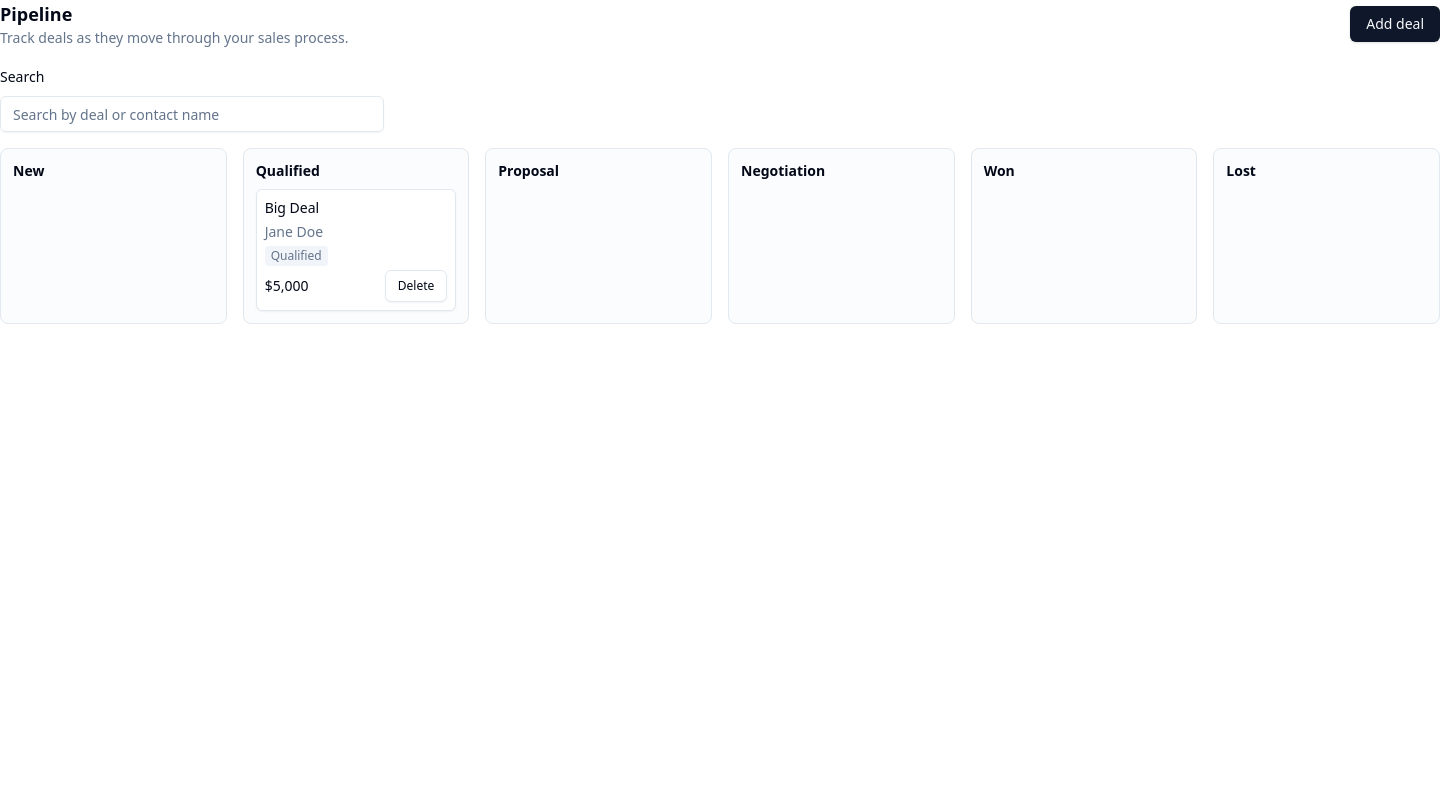
Test: PipelinePage › opens a deal's read-only detail view showing its fields
Step 1. Click the button "Big Deal" → (292, 208), box [265,198,319,218]
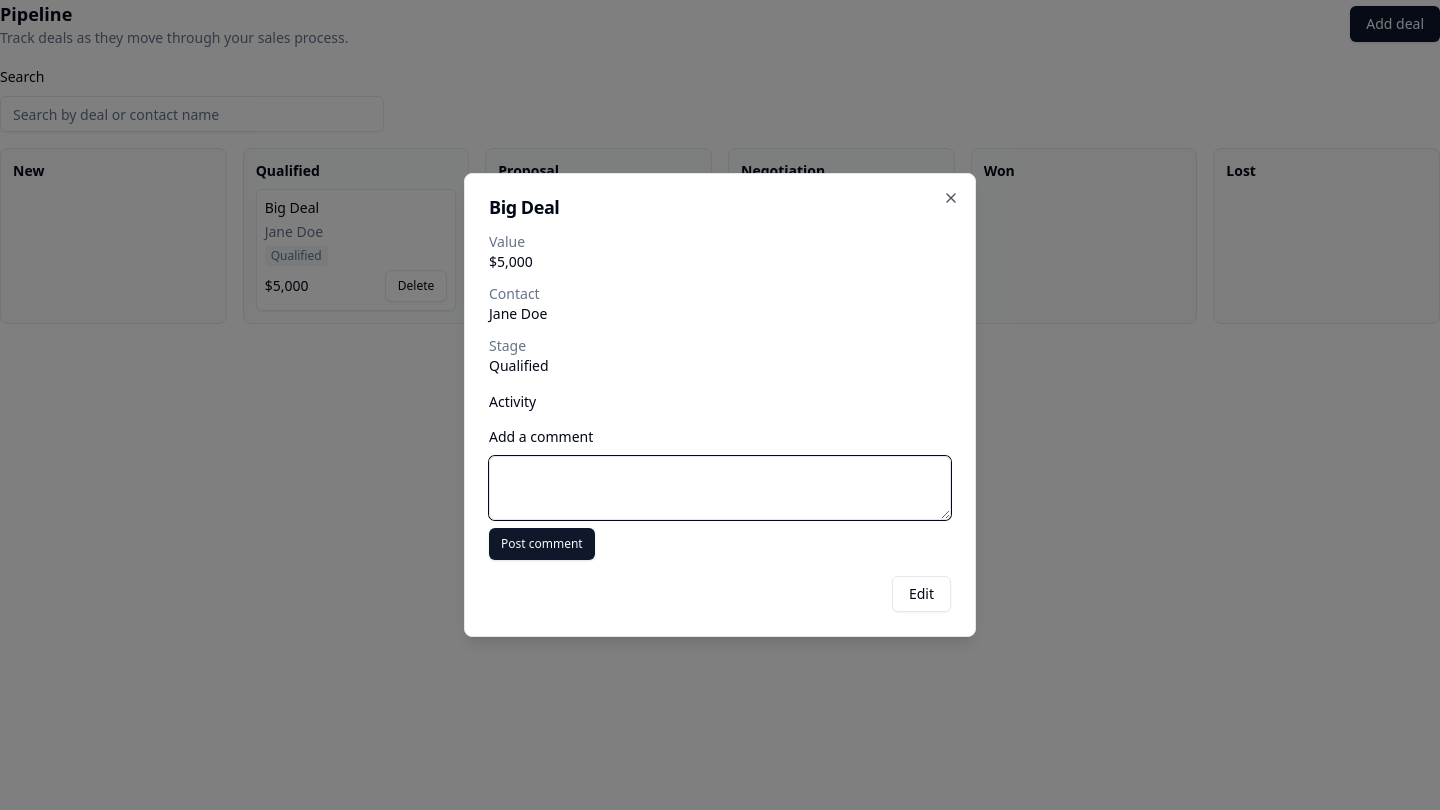
expect the text "$5,000" is shown: met, box [489,252,533,271]
expect the text "Jane Doe" is shown: met, box [489,304,548,323]
expect the text "Qualified" is shown: met, box [489,356,549,375]
